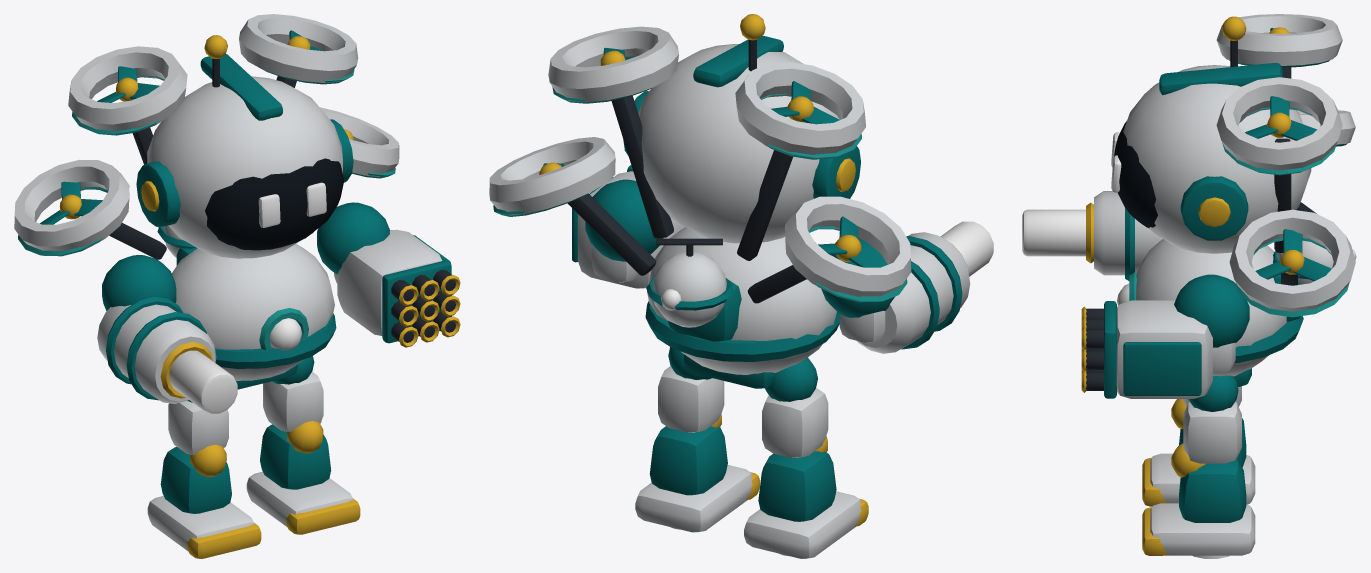
File: aero.fbx
The picture shows the model from 3 angles, left to right: view 1: azimuth 30°, elevation 25°; view 2: azimuth 150°, elevation 25°; view 3: azimuth 270°, elevation 25°; orthographic projection. The views are drawn at different scales.
Visible parts, largest first — view 1: Torso, Head, BombArm, LegL, LegR, GunArm, GunArmGlow, HeadGlow, Fan1, Fan3, TorsoGlow; view 2: Torso, Head, LegR, LegL, GunArm, BombArm, Pod, GunArmGlow, Fan1, Fan3; view 3: Torso, Head, BombArm, LegL, GunArm, GunArmGlow, LegR, Fan2, Fan4, Pod, HeadGlow.
Boxes of the visible parts, bbox=[...] form: Torso: bbox=[14, 14, 399, 389]; Head: bbox=[136, 35, 353, 258]; BombArm: bbox=[317, 202, 460, 347]; LegL: bbox=[246, 356, 360, 534]; LegR: bbox=[147, 400, 261, 558]; GunArm: bbox=[97, 255, 216, 403]; GunArmGlow: bbox=[169, 350, 237, 413]; HeadGlow: bbox=[258, 182, 326, 227]; Fan1: bbox=[40, 181, 102, 224]; Fan3: bbox=[97, 66, 159, 102]; TorsoGlow: bbox=[269, 318, 302, 350]; Torso: bbox=[489, 26, 911, 388]; Head: bbox=[623, 14, 860, 243]; LegR: bbox=[744, 357, 868, 558]; LegL: bbox=[635, 347, 759, 532]; GunArm: bbox=[821, 232, 970, 353]; BombArm: bbox=[572, 165, 685, 288]; Pod: bbox=[646, 238, 733, 327]; GunArmGlow: bbox=[940, 221, 993, 276]; Fan1: bbox=[818, 216, 888, 267]; Fan3: bbox=[771, 81, 839, 124]; Torso: bbox=[1129, 14, 1355, 386]; Head: bbox=[1114, 16, 1311, 253]; BombArm: bbox=[1081, 274, 1249, 398]; LegL: bbox=[1142, 375, 1255, 555]; GunArm: bbox=[1086, 191, 1162, 280]; GunArmGlow: bbox=[1022, 209, 1085, 256]; LegR: bbox=[1142, 386, 1255, 506]; Fan2: bbox=[1255, 229, 1331, 281]; Fan4: bbox=[1245, 96, 1317, 140]; Pod: bbox=[1273, 202, 1333, 284]; HeadGlow: bbox=[1111, 132, 1121, 192].
Bounding box in the file's own units: 6.72 × 8.4 × 5.13.
